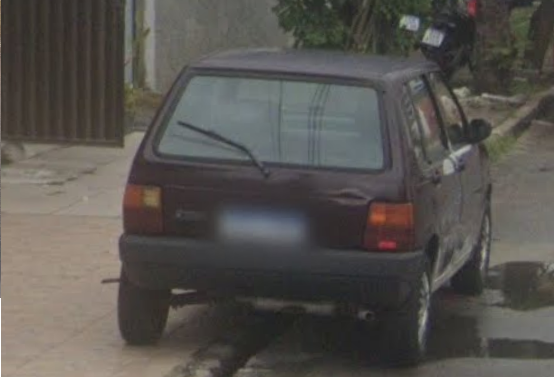car: (113, 37, 494, 360)
